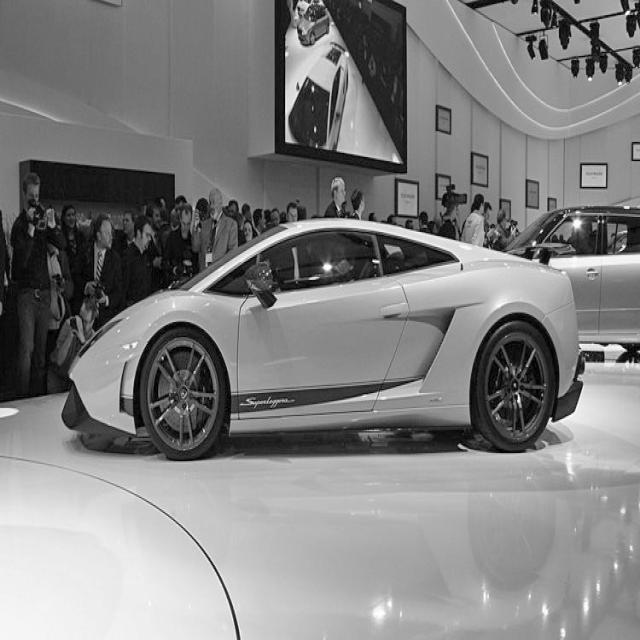car: (60, 216, 585, 461), (502, 203, 639, 363), (288, 41, 349, 151)
